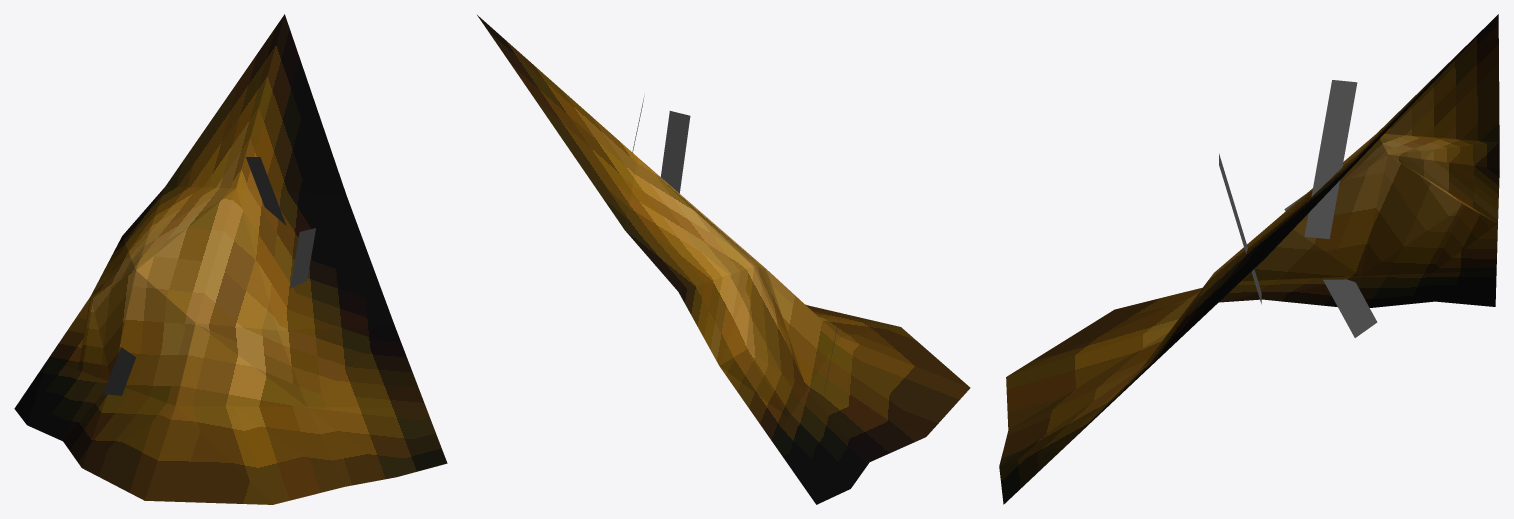
The model's file is Schmutzhaufen [Braun]_1505.glb.
3 renders of one model, left to right at view 1: azimuth 30°, elevation 25°; view 2: azimuth 150°, elevation 25°; view 3: azimuth 270°, elevation 25°, orthographic. The views are drawn at different scales.
Visible parts, largest first — view 1: pPlaneShape18, pPlaneShape20, pPlaneShape19, pPlaneShape21; view 2: pPlaneShape18, pPlaneShape19; view 3: pPlaneShape18, pPlaneShape20, pPlaneShape21.
Boxes of the visible parts, box(x1,y1,x2,y2) form: pPlaneShape18: box(14, 14, 447, 504); pPlaneShape20: box(246, 157, 286, 225); pPlaneShape19: box(290, 228, 315, 288); pPlaneShape21: box(103, 347, 135, 395); pPlaneShape18: box(477, 15, 970, 504); pPlaneShape19: box(660, 111, 690, 193); pPlaneShape18: box(999, 14, 1499, 504); pPlaneShape20: box(1304, 80, 1357, 239); pPlaneShape21: box(1284, 195, 1377, 337).
Size of the model in its own units: 0.1264 by 0.1407 by 0.1296.
Materials: 4 (1 with a texture image).
